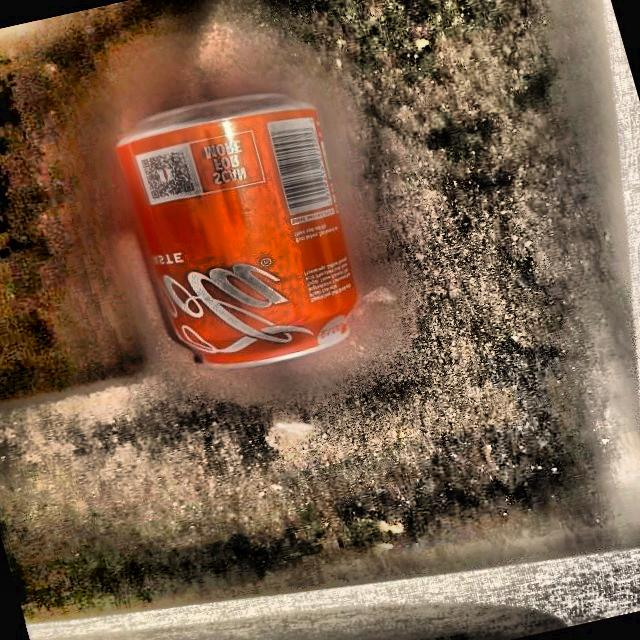coke-can: (113, 93, 355, 365)
